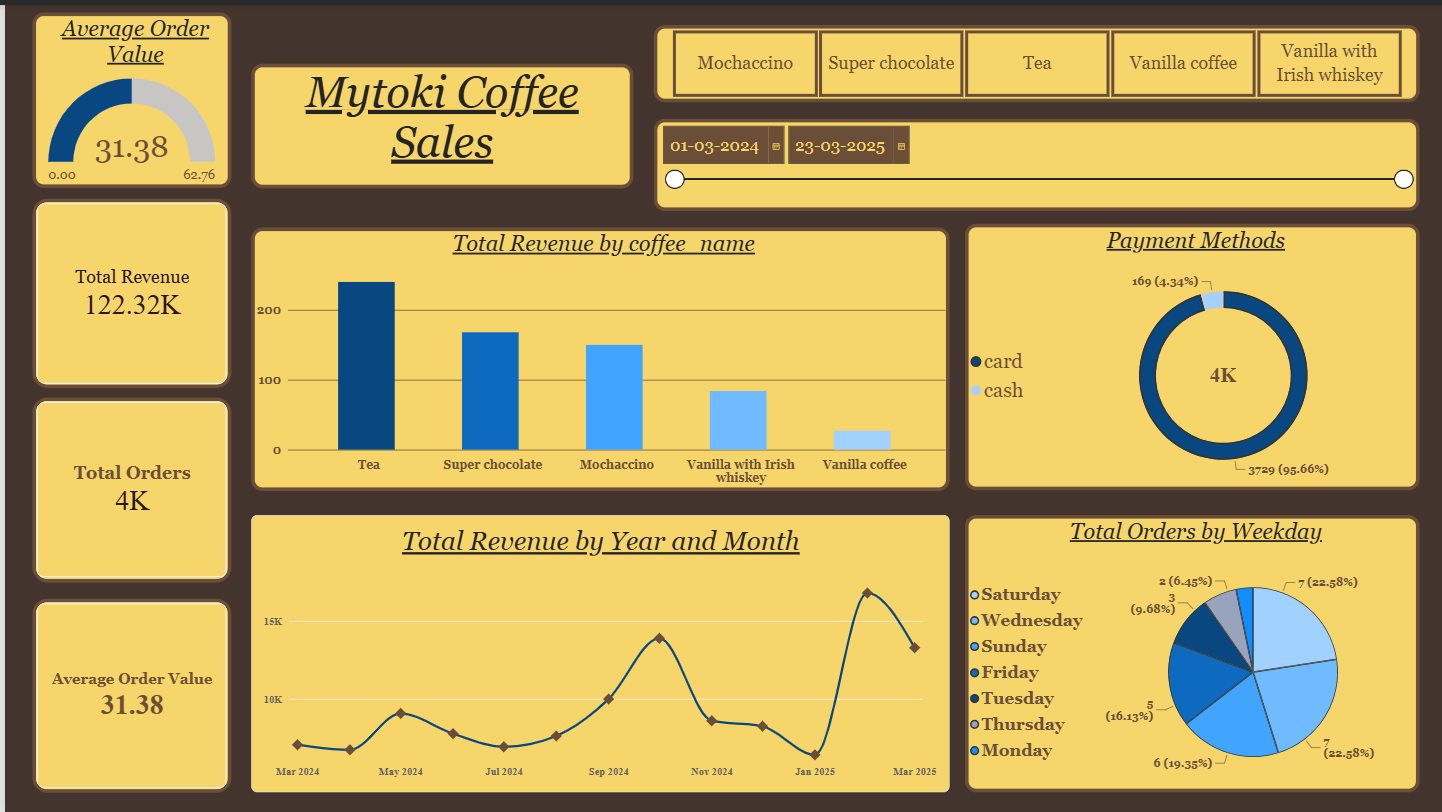

Layout of this report page (visuals, bound fields, positions):
{"tool":"powerbi","page":{"name":"Page 1","canvas":[1920,1080],"ordinal":0},"visuals":[{"type":"cardVisual","fields":{"Data":["coffee sales.Total Revenue"]},"box":[37,259.3,265.5,253.2],"z":0},{"type":"cardVisual","fields":{"Data":["coffee sales.Total Orders"]},"box":[37,524.9,265.5,247],"z":1000},{"type":"cardVisual","fields":{"Data":["coffee sales.Average Order Value"]},"box":[37,792.5,265.5,259.3],"z":2000},{"type":"clusteredColumnChart","fields":{"Category":["coffee sales.coffee_name"],"Y":["coffee sales.Total Revenue"]},"box":[329.3,296.4,932.4,352],"z":3000},{"type":"lineChart","fields":{"Y":["coffee sales.Total Revenue"],"Category":["coffee sales.date.Variation.Date Hierarchy.Year","coffee sales.date.Variation.Date Hierarchy.Month"]},"box":[329.3,681.3,932.4,370.5],"z":4000},{"type":"donutChart","title":"Payment Methods","fields":{"Category":["coffee sales.cash_type"],"Y":["coffee sales.Total Orders"]},"box":[1282.3,292.3,607.2,356.1],"z":5000},{"type":"pieChart","fields":{"Y":["coffee sales.Total Orders"],"Category":["coffee sales.Weekday"]},"box":[1282.3,681.3,607.2,370.5],"z":6000},{"type":"gauge","fields":{"Y":["coffee sales.Average Order Value"]},"box":[37,10.3,265.5,234.6],"z":7000},{"type":"slicer","fields":{"Values":["coffee sales.coffee_name"]},"box":[866.6,26.8,1023,102.9],"z":8000},{"type":"slicer","fields":{"Values":["coffee sales.date"]},"box":[866.6,152.3,1023,123.5],"z":9000},{"type":"textbox","box":[329.3,78.2,510.5,166.7],"z":10000}]}

Visuals, with their boxes in screenshot pixels (x1, y1, x2, y2), scaled from the page's 1920x1080 canvas onto the 1442x812 screenshot:
cardVisual - coffee sales.Total Revenue: <region>28, 195, 227, 385</region>
cardVisual - coffee sales.Total Orders: <region>28, 395, 227, 580</region>
cardVisual - coffee sales.Average Order Value: <region>28, 596, 227, 791</region>
clusteredColumnChart - coffee sales.coffee_name x coffee sales.Total Revenue: <region>247, 223, 948, 488</region>
lineChart - coffee sales.Total Revenue x coffee sales.date.Variation.Date Hierarchy.Year: <region>247, 512, 948, 791</region>
"Payment Methods" donutChart: <region>963, 220, 1419, 488</region>
pieChart - coffee sales.Total Orders x coffee sales.Weekday: <region>963, 512, 1419, 791</region>
gauge - coffee sales.Average Order Value: <region>28, 8, 227, 184</region>
slicer - coffee sales.coffee_name: <region>651, 20, 1419, 98</region>
slicer - coffee sales.date: <region>651, 115, 1419, 207</region>
textbox: <region>247, 59, 631, 184</region>
